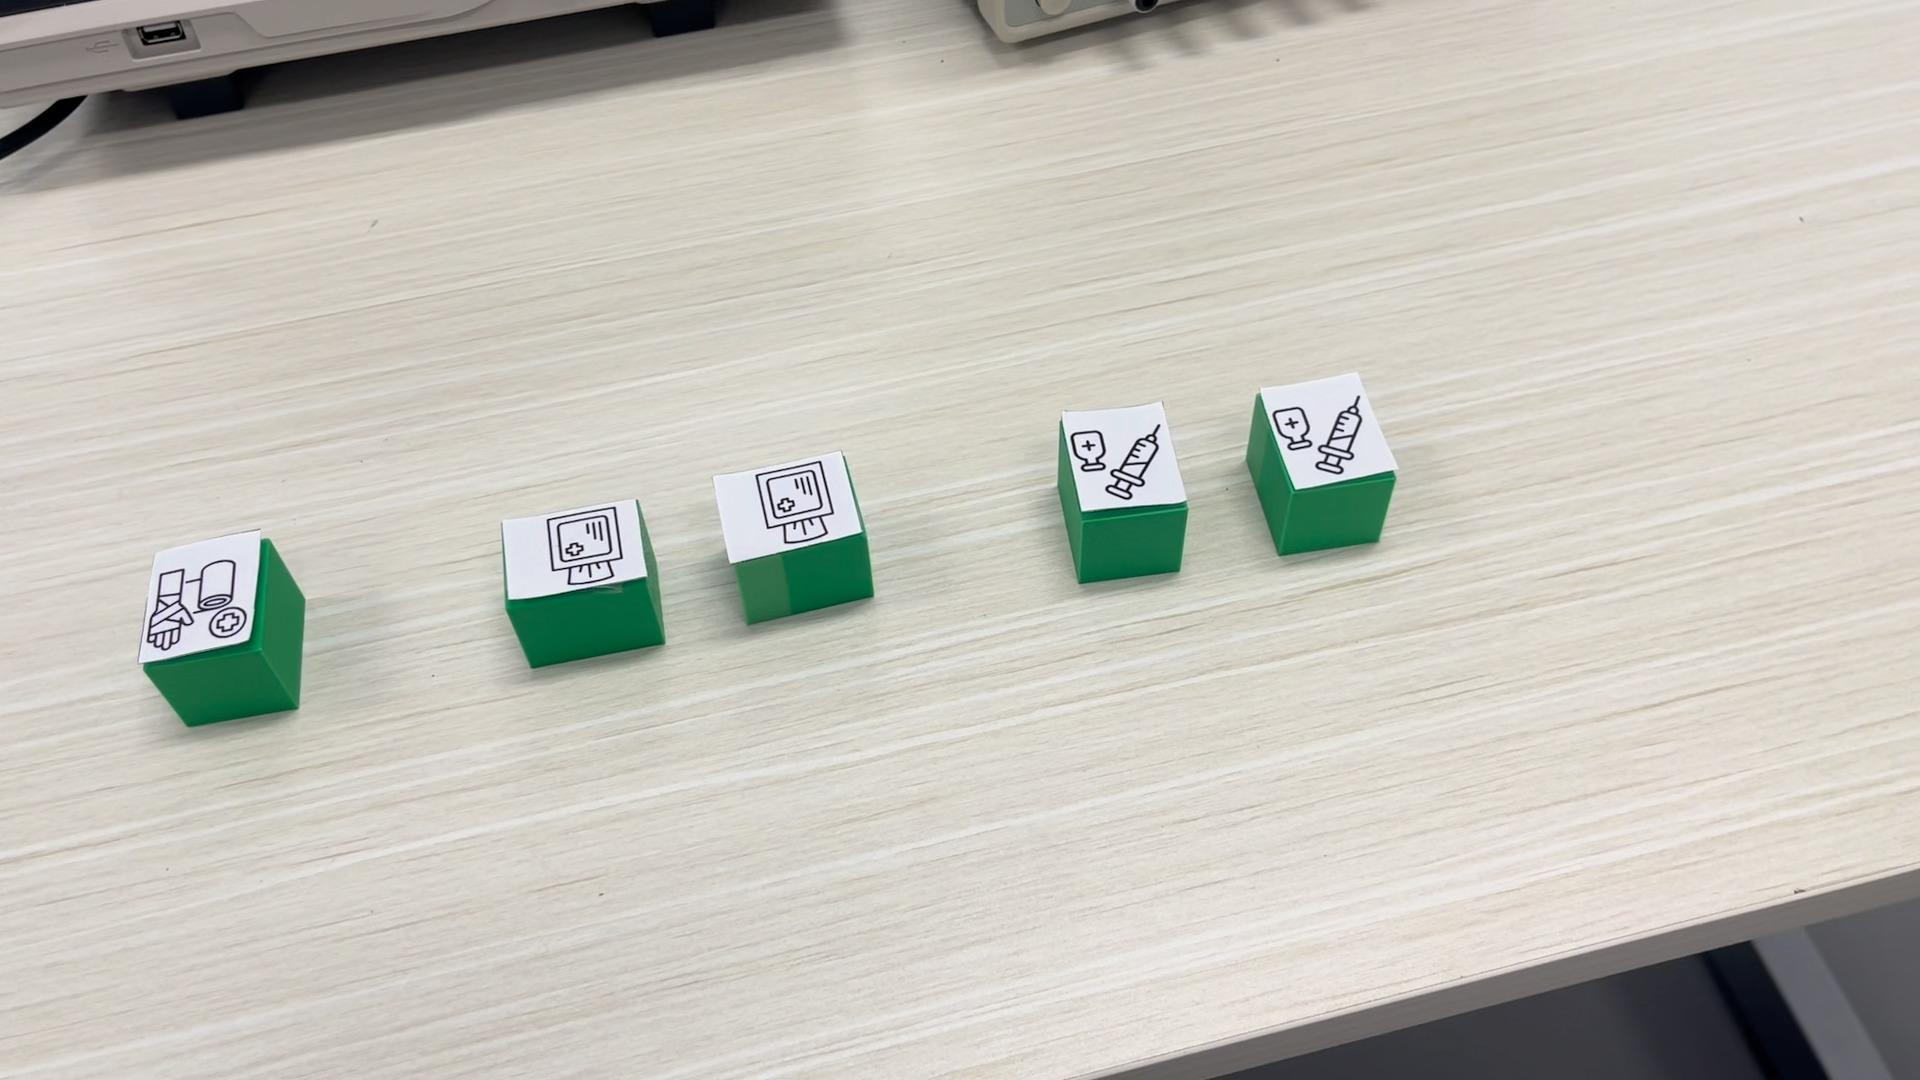Bandages: (136, 527, 303, 728)
Gauze: (496, 496, 665, 669), (712, 450, 876, 625)
antiseptic cream: (1245, 369, 1396, 558), (1054, 398, 1187, 583)
